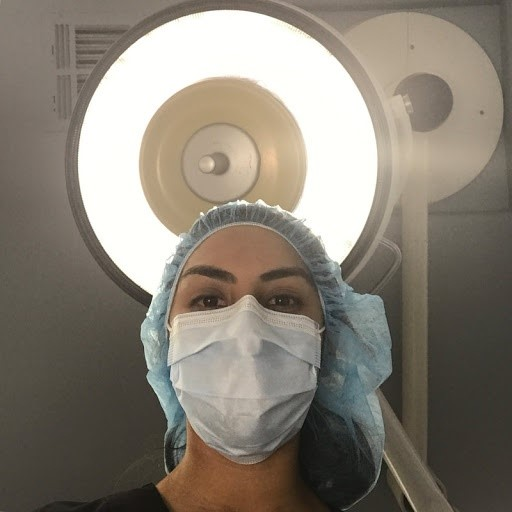face_with_mask: (155, 200, 366, 471)
